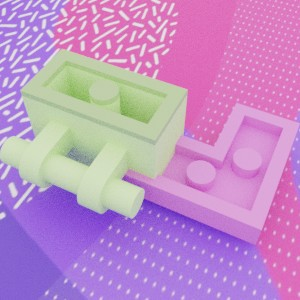lego: (0, 48, 187, 218), (119, 102, 300, 245)
